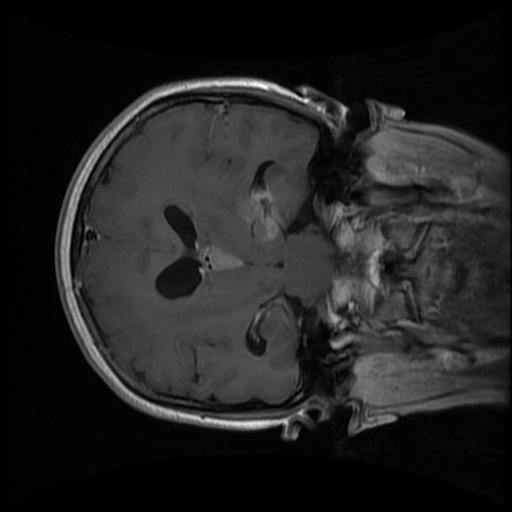glioma: (233, 185, 280, 246)
